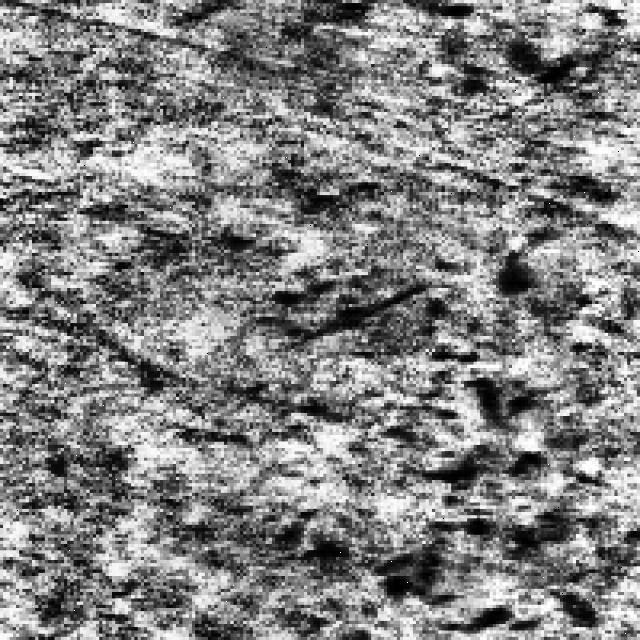Crazing: (278, 237, 618, 630), (416, 0, 640, 96)
